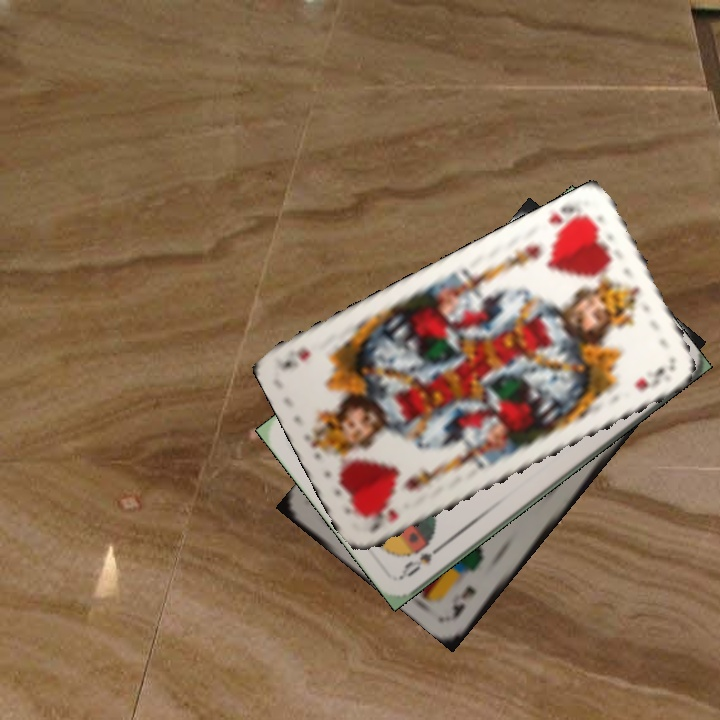EK: (448, 582, 479, 620)
HK: (544, 201, 593, 238), (370, 504, 402, 536)
SO: (397, 538, 449, 580)
